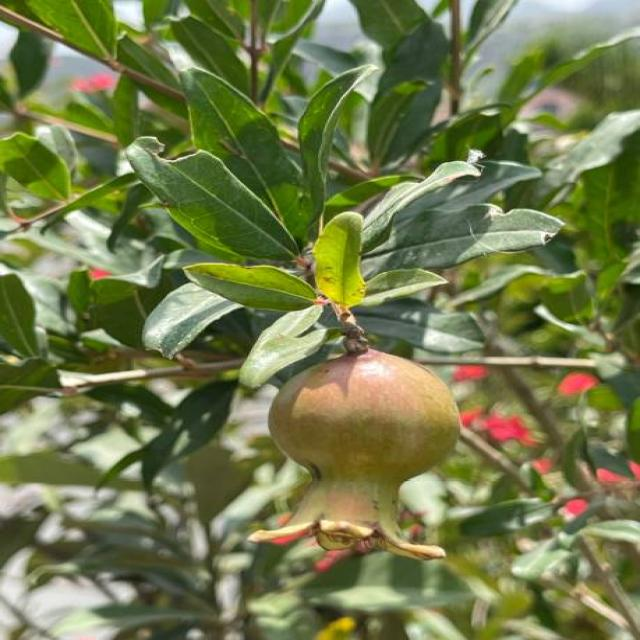Unripe: (265, 344, 460, 567)
